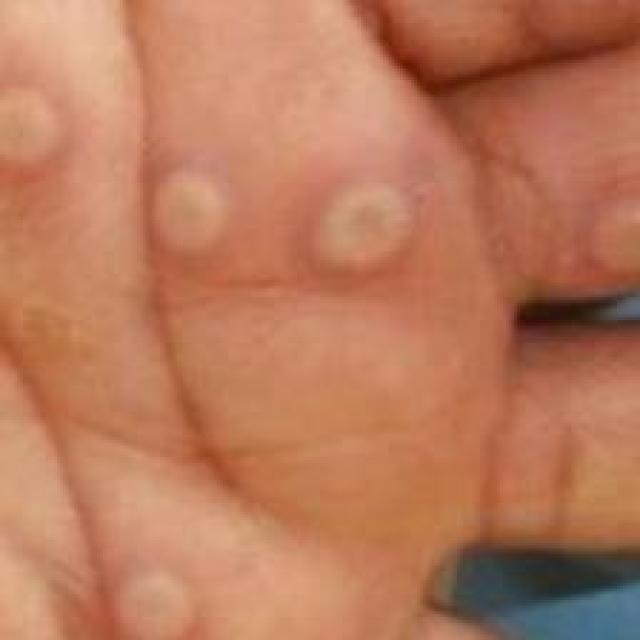monkeypox: (0, 34, 506, 640)
